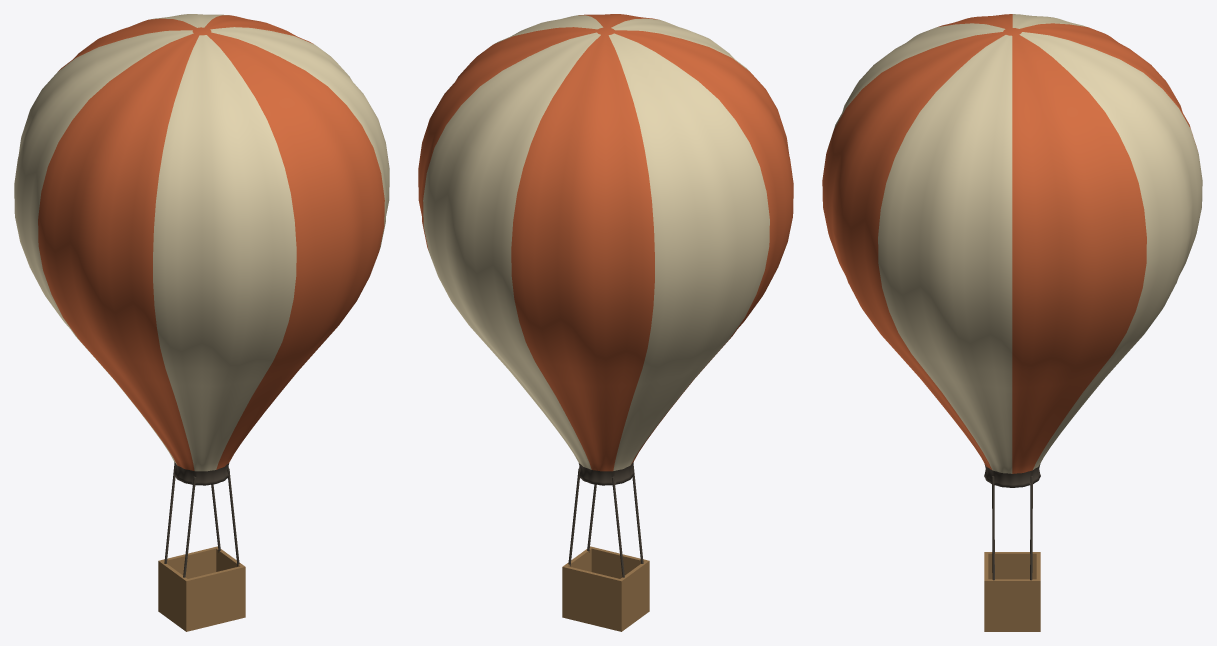
The picture shows the model from 3 angles, left to right: view 1: azimuth 30°, elevation 25°; view 2: azimuth 150°, elevation 25°; view 3: azimuth 270°, elevation 25°; orthographic projection.
Visible parts, largest first — view 1: Complete hot air balloon closed connected assembly; view 2: Complete hot air balloon closed connected assembly; view 3: Complete hot air balloon closed connected assembly.
Part boxes in pixels (box(x1,y1,x2,y2)): Complete hot air balloon closed connected assembly: box(14, 14, 389, 631); Complete hot air balloon closed connected assembly: box(418, 14, 793, 631); Complete hot air balloon closed connected assembly: box(822, 14, 1202, 631).
Bounding box in the file's own units: 2.44 × 4.14 × 2.44.
